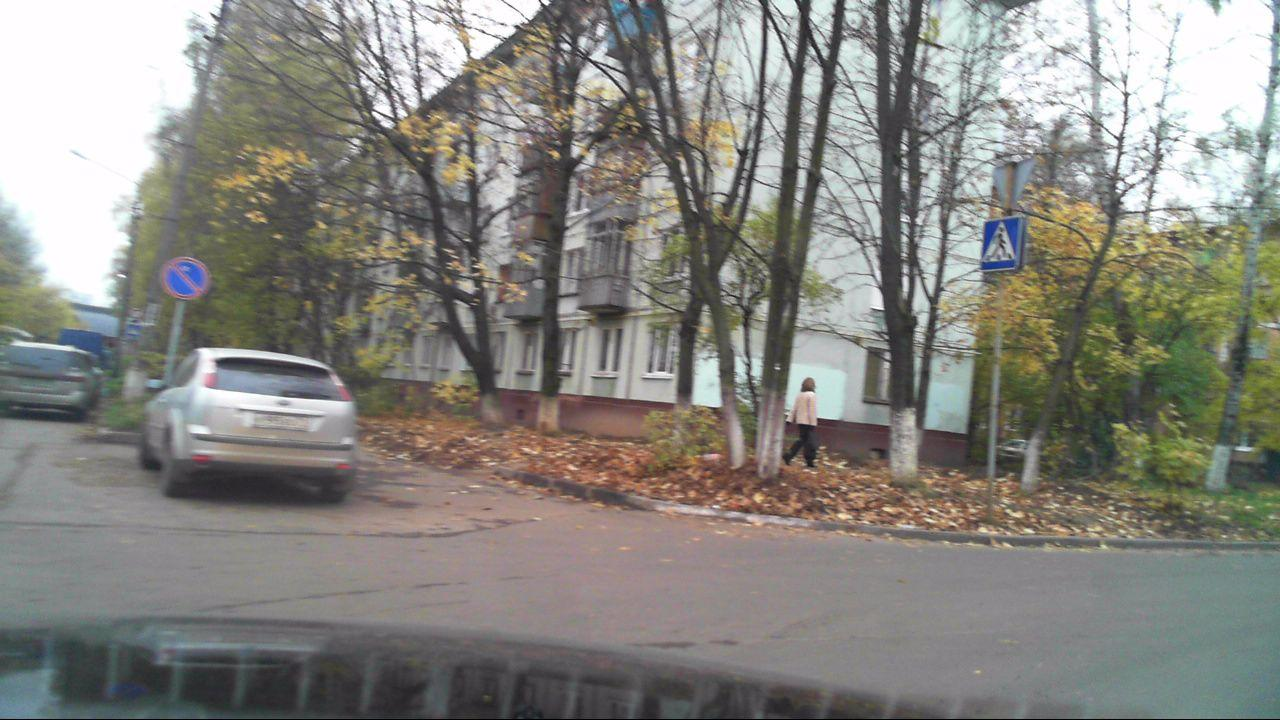3_28: (162, 258, 209, 302)
5_19_2: (978, 217, 1023, 266)
